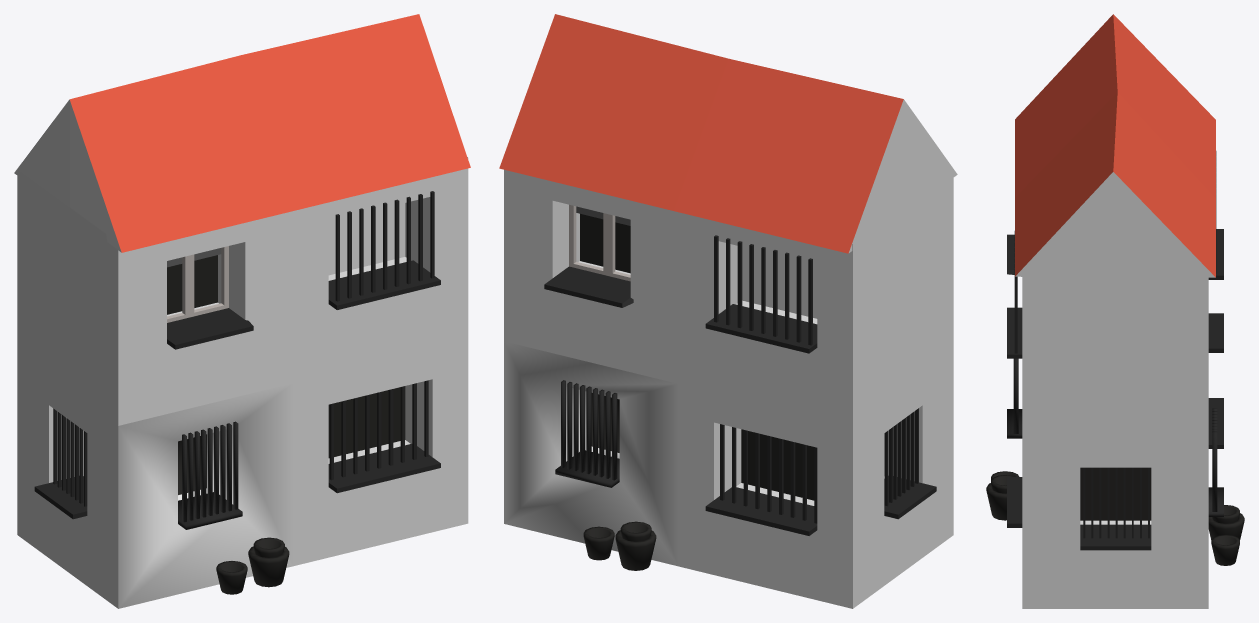
Rendered from casa procedural_relleno_2.fbx.
The picture shows the model from 3 angles, left to right: view 1: azimuth 30°, elevation 25°; view 2: azimuth 150°, elevation 25°; view 3: azimuth 270°, elevation 25°; orthographic projection. The views are drawn at different scales.
Visible parts, largest first — view 1: Procedural_Building_straight; view 2: Procedural_Building_straight; view 3: Procedural_Building_straight.
Boxes of the visible parts, box(x1,y1,x2,y2) form: Procedural_Building_straight: box(14, 14, 470, 608); Procedural_Building_straight: box(499, 14, 957, 608); Procedural_Building_straight: box(986, 14, 1244, 608).
Bounding box in the file's own units: 216 × 259 × 138.
